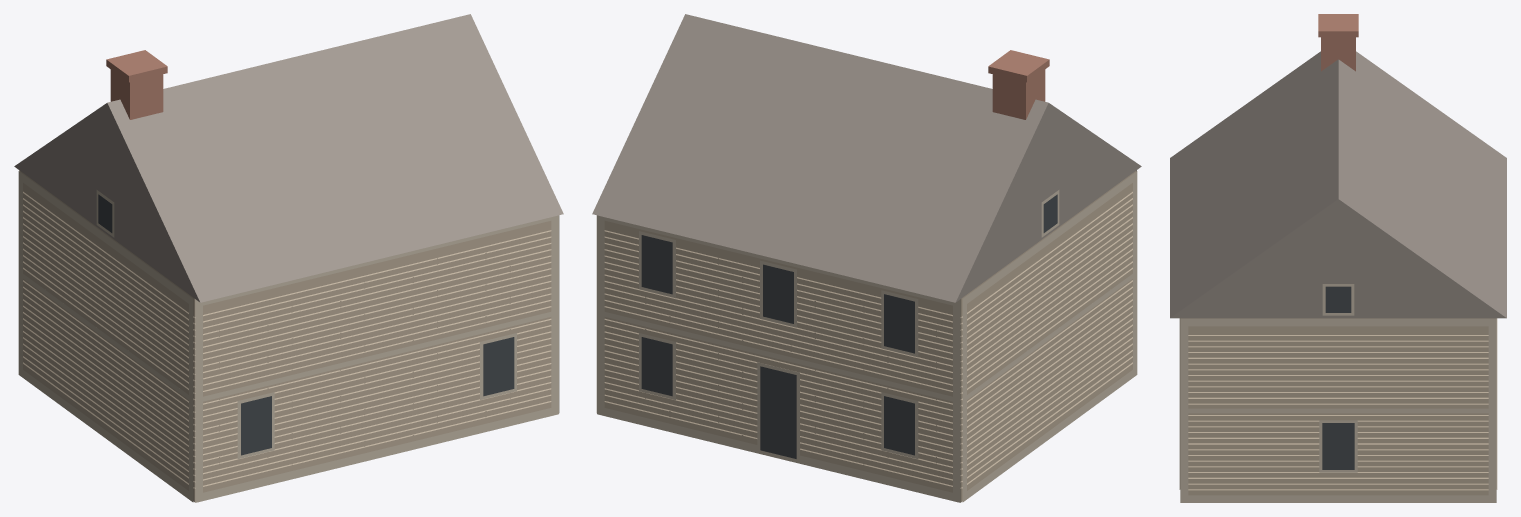
File: temple_building__frame_1833.glb
3 renders of one model, left to right at view 1: azimuth 30°, elevation 25°; view 2: azimuth 150°, elevation 25°; view 3: azimuth 270°, elevation 25°, orthographic. The views are drawn at different scales.
Visible parts, largest first — view 1: temple_building__frame_1833; view 2: temple_building__frame_1833; view 3: temple_building__frame_1833.
Boxes of the visible parts, x1,y1,x2,y2 form: temple_building__frame_1833: [14, 14, 563, 502]; temple_building__frame_1833: [592, 14, 1141, 502]; temple_building__frame_1833: [1170, 14, 1506, 502].
Bounding box in the file's own units: 9.24 × 8.85 × 8.12.
